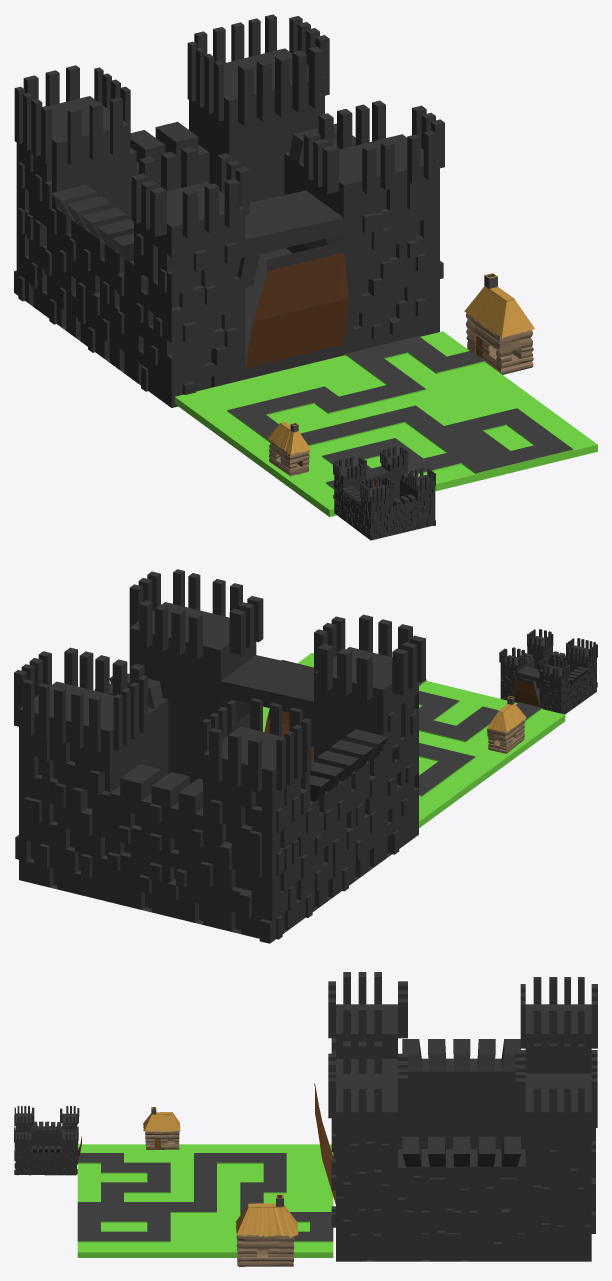
The model's file is mapa_středověk.fbx.
3 renders of one model, top to bottom at view 1: azimuth 30°, elevation 25°; view 2: azimuth 150°, elevation 25°; view 3: azimuth 270°, elevation 25°, orthographic. The views are drawn at different scales.
Parts seen in each view (by area): view 1: Cube.002, Cube, Cube.003, Cube.001, Cube.004; view 2: Cube.002, Cube, Cube.003, Cube.004; view 3: Cube.002, Cube, Cube.003, Cube.001, Cube.004.
Boxes of the visible parts, x1=… form: Cube.002: x1=14, y1=14, x2=444, y2=407; Cube: x1=174, y1=331, x2=597, y2=516; Cube.003: x1=333, y1=446, x2=435, y2=540; Cube.001: x1=464, y1=273, x2=534, y2=374; Cube.004: x1=268, y1=421, x2=310, y2=476; Cube.002: x1=14, y1=569, x2=425, y2=943; Cube: x1=263, y1=653, x2=565, y2=827; Cube.003: x1=499, y1=629, x2=597, y2=714; Cube.004: x1=487, y1=696, x2=526, y2=753; Cube.002: x1=314, y1=972, x2=597, y2=1261; Cube: x1=77, y1=1144, x2=333, y2=1257; Cube.003: x1=14, y1=1106, x2=81, y2=1175; Cube.001: x1=235, y1=1194, x2=298, y2=1266; Cube.004: x1=143, y1=1107, x2=180, y2=1149.
Size of the model in its own units: 4724 by 3051 by 9137.
